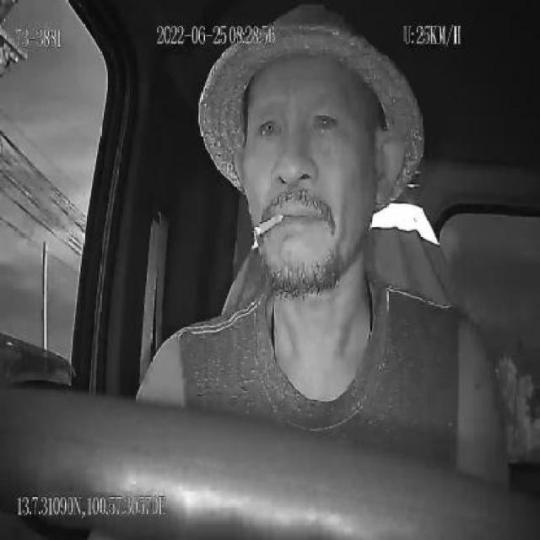smoking: (252, 210, 284, 239)
